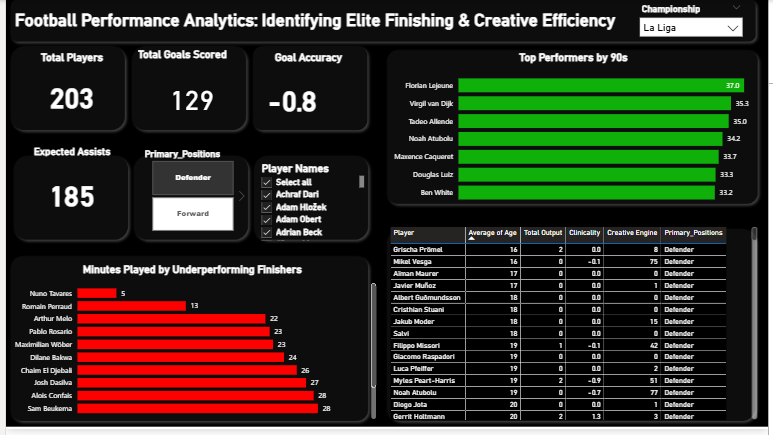

What the dashboard file says about the page in this screenshot:
{"tool":"powerbi","page":{"name":"Page 1","canvas":[1280,720],"ordinal":0},"visuals":[{"type":"cardVisual","title":"Total Players","fields":{"Data":["Count(Football_Clean_Final csv.Player)"]},"box":[15.3,86.5,191.6,139],"z":0},{"type":"cardVisual","title":"Goal Accuracy","fields":{"Data":["Football_Clean_Final csv.Clinicality"]},"box":[415.4,86.5,186.5,139],"z":1000},{"type":"slicer","fields":{"Values":["Football_Clean_Final csv.League"]},"box":[1054.5,0,191.6,74.6],"z":2000},{"type":"slicer","fields":{"Values":["Football_Clean_Final csv.Primary_Positions"]},"box":[220.1,243.6,186.5,151.2],"z":3000},{"type":"slicer","fields":{"Values":["Football_Clean_Final csv.Player"]},"box":[415.8,266.9,189.9,142],"z":4000},{"type":"tableEx","fields":{"Values":["Football_Clean_Final csv.Player","Avg(Football_Clean_Final csv.Age)","Football_Clean_Final csv.Total Output","Football_Clean_Final csv.Clinicality","Football_Clean_Final csv.Creative Engine","Football_Clean_Final csv.Primary_Positions"]},"box":[640,376.3,626.6,332.6],"z":5000},{"type":"clusteredBarChart","title":"Top Performers by 90s","fields":{"Category":["Football_Clean_Final csv.Player"],"Y":["Sum(Football_Clean_Final csv.90s)"]},"box":[640,85.7,626.6,267.1],"z":6000},{"type":"clusteredBarChart","title":"Minutes Played by Underperforming Finishers","fields":{"Category":["Football_Clean_Final csv.Player"],"Y":["Sum(Football_Clean_Final csv.90s)"]},"box":[0,441.8,626.6,267.1],"z":7000},{"type":"cardVisual","title":"Total Goals Scored","fields":{"Data":["Sum(Football_Clean_Final csv.Gls)"]},"box":[217.3,80.4,191.7,150.6],"z":8000},{"type":"cardVisual","title":"Expected Assists","fields":{"Data":["Sum(Football_Clean_Final csv.xAG)"]},"box":[15,244,192,151],"z":9000},{"type":"textbox","box":[15.4,17.1,1021.6,58.2],"z":10000}]}

Visuals, with their boxes in screenshot pixels (x1, y1, x2, y2), scaled from the page's 1280x720 canvas onto the 773x435 screenshot:
"Total Players" cardVisual: Rect(9, 52, 125, 136)
"Goal Accuracy" cardVisual: Rect(251, 52, 363, 136)
slicer - Football_Clean_Final csv.League: Rect(637, 0, 753, 45)
slicer - Football_Clean_Final csv.Primary_Positions: Rect(133, 147, 246, 239)
slicer - Football_Clean_Final csv.Player: Rect(251, 161, 366, 247)
tableEx - Football_Clean_Final csv.Player x Avg(Football_Clean_Final csv.Age): Rect(386, 227, 765, 428)
"Top Performers by 90s" clusteredBarChart: Rect(386, 52, 765, 213)
"Minutes Played by Underperforming Finishers" clusteredBarChart: Rect(0, 267, 378, 428)
"Total Goals Scored" cardVisual: Rect(131, 49, 247, 140)
"Expected Assists" cardVisual: Rect(9, 147, 125, 239)
textbox: Rect(9, 10, 626, 45)
